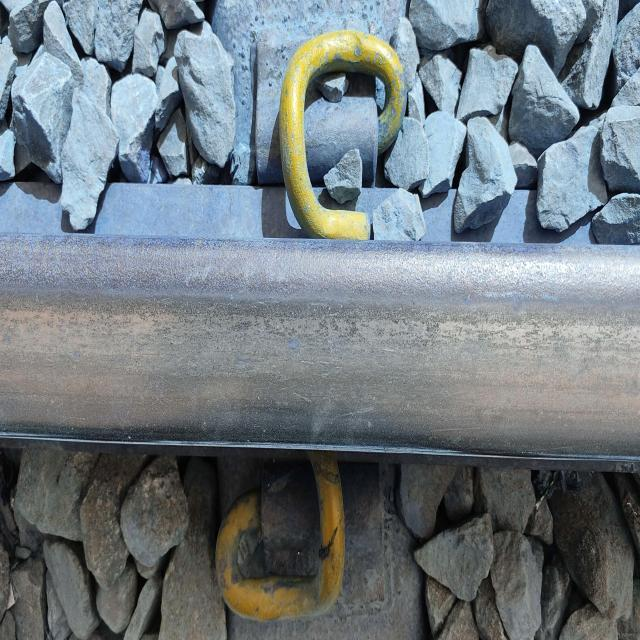Good Fasteners: (213, 0, 406, 239), (215, 452, 422, 640)
